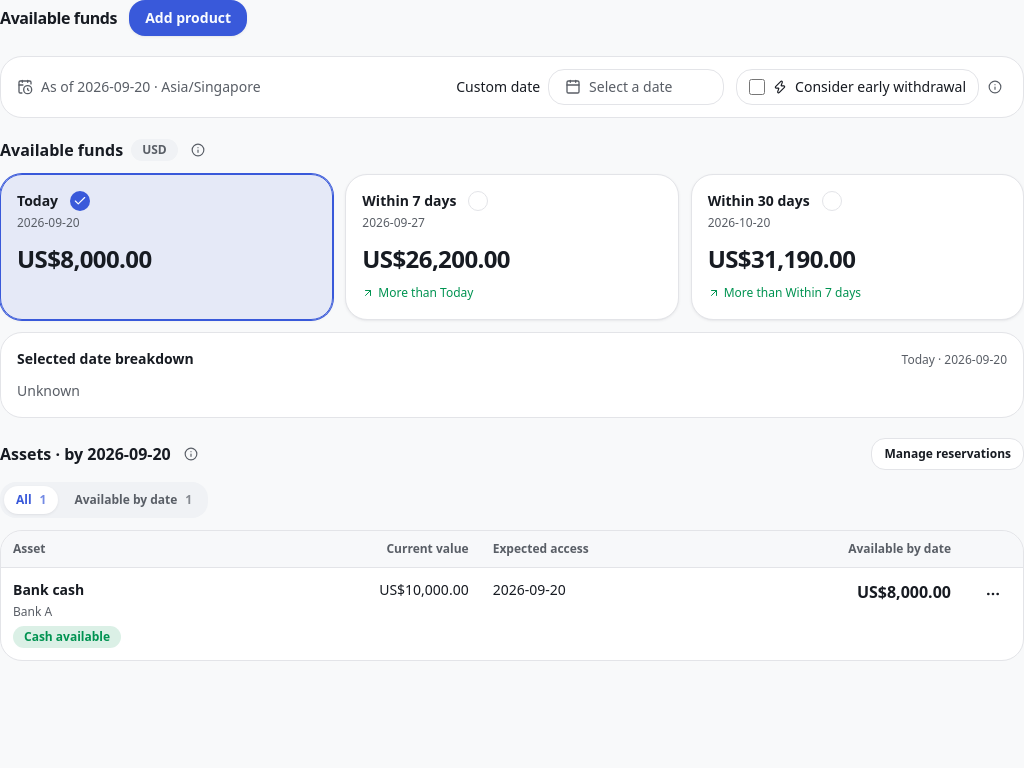
AvailableFundsPage › requires a choice between eligible accounts and names the chosen account
The image size is (1024, 768).
Step 1. Click the button "Add product" → [188, 18], box [129, 0, 247, 36]
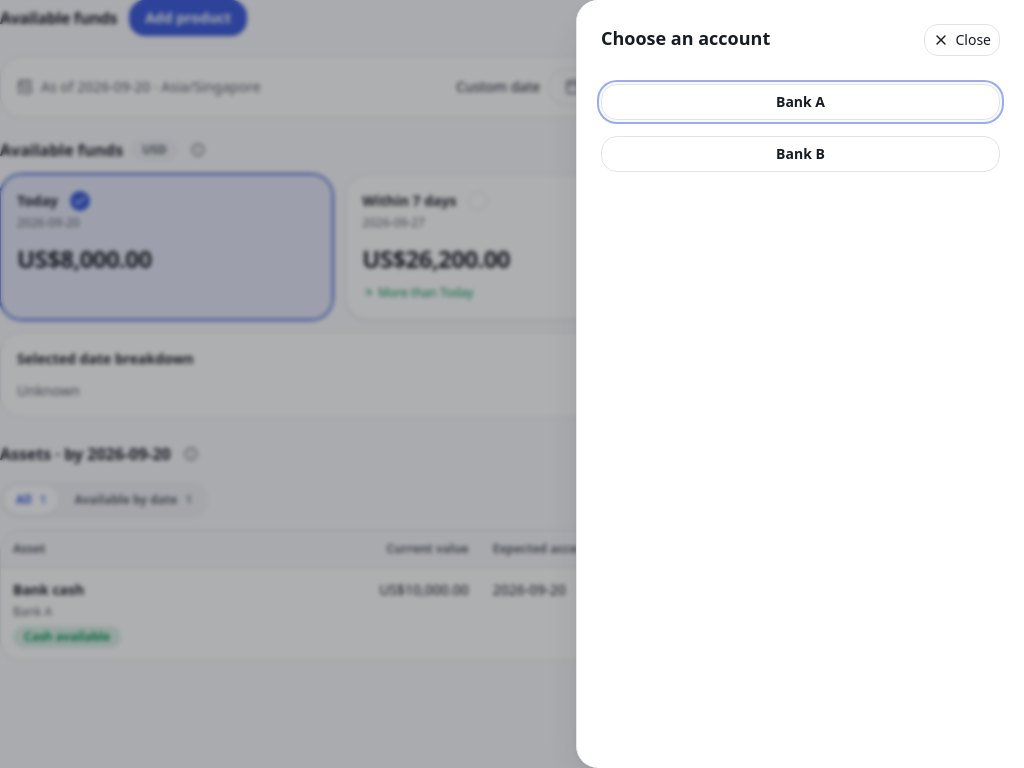
Expected: the field labelled "Principal" is not shown
Expected: the heading "Choose an account" is shown, [601, 26, 770, 50]
Step 2. Click the button "Bank B" → [800, 154], box [601, 136, 1000, 172]
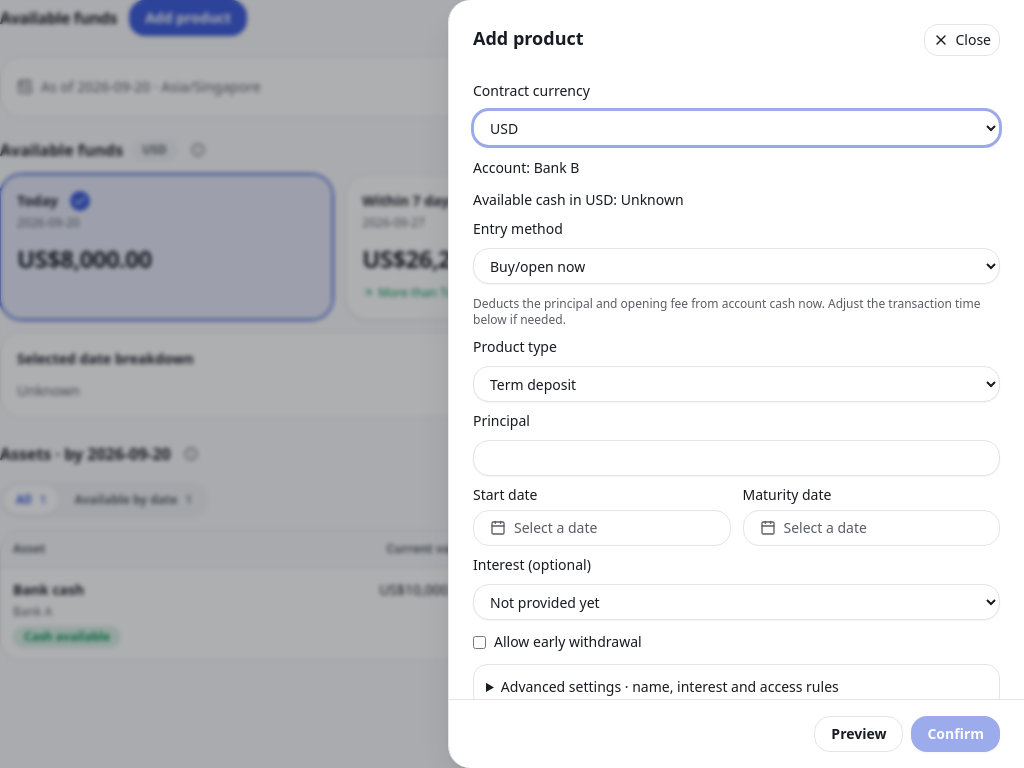
Expected: the text "Account: Bank B" is shown, [473, 158, 580, 177]
Expected: the field labelled "Principal" is shown, [473, 440, 1000, 476]
